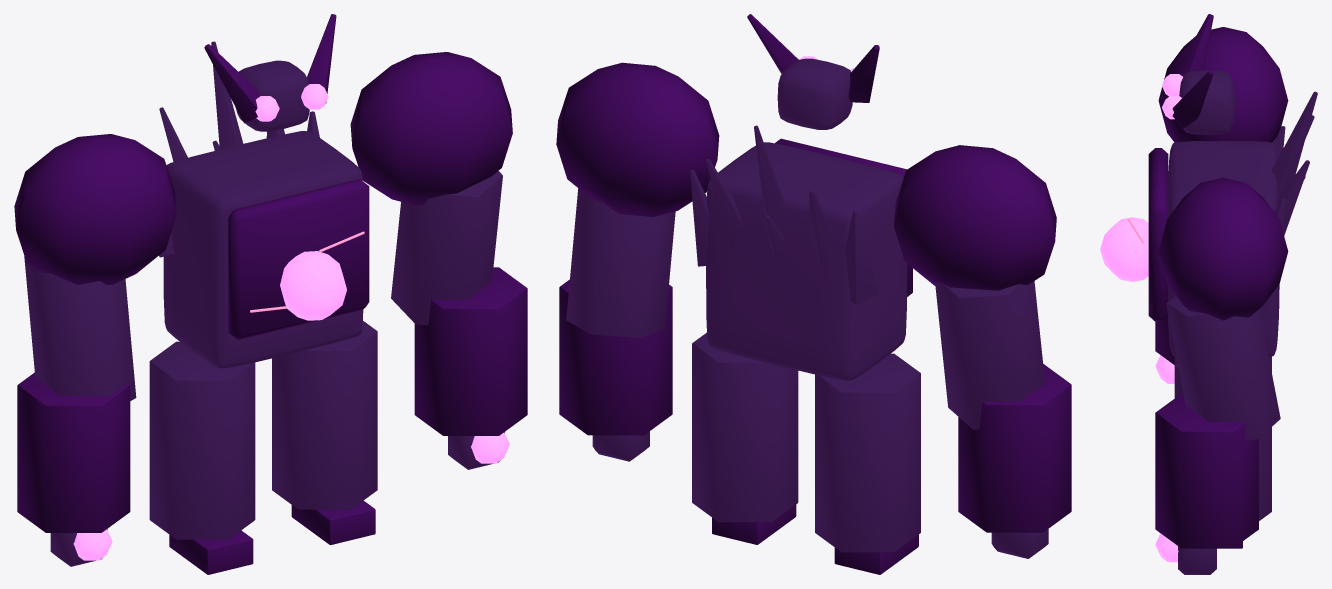
The model's file is SM_Berserker_LOD0.fbx.
The picture shows the model from 3 angles, left to right: view 1: azimuth 30°, elevation 25°; view 2: azimuth 150°, elevation 25°; view 3: azimuth 270°, elevation 25°; orthographic projection. The views are drawn at different scales.
Parts seen in each view (by area): view 1: SM_Berserker_Torso, SM_Berserker_Shoulder_L, SM_Berserker_Shoulder_R, SM_Berserker_Leg_L, SM_Berserker_Leg_R, SM_Berserker_Forearm_L, SM_Berserker_Forearm_R, SM_Berserker_ChestPlate, SM_Berserker_UpperArm_L, SM_Berserker_UpperArm_R, SM_Berserker_ChargeCore, SM_Berserker_Head (+9 smaller); view 2: SM_Berserker_Torso, SM_Berserker_Shoulder_R, SM_Berserker_Shoulder_L, SM_Berserker_Leg_L, SM_Berserker_Leg_R, SM_Berserker_Forearm_L, SM_Berserker_UpperArm_R, SM_Berserker_UpperArm_L, SM_Berserker_Forearm_R, SM_Berserker_Head, SM_Berserker_BackSpike_4, SM_Berserker_BackSpike_0 (+10 smaller); view 3: SM_Berserker_Shoulder_R, SM_Berserker_Forearm_R, SM_Berserker_UpperArm_R, SM_Berserker_Shoulder_L, SM_Berserker_Torso, SM_Berserker_ChestPlate, SM_Berserker_ChargeCore, SM_Berserker_Head, SM_Berserker_BackSpike_0, SM_Berserker_Leg_R, SM_Berserker_Horn_R, SM_Berserker_Fist_R (+6 smaller).
Boxes of the visible parts, x1,y1,x2,y2 form: SM_Berserker_Torso: [163, 131, 363, 368]; SM_Berserker_Shoulder_L: [14, 134, 176, 285]; SM_Berserker_Shoulder_R: [350, 52, 512, 205]; SM_Berserker_Leg_L: [149, 341, 255, 539]; SM_Berserker_Leg_R: [272, 321, 377, 509]; SM_Berserker_Forearm_L: [17, 372, 130, 532]; SM_Berserker_Forearm_R: [414, 267, 527, 435]; SM_Berserker_ChestPlate: [228, 179, 369, 339]; SM_Berserker_UpperArm_L: [24, 256, 136, 400]; SM_Berserker_UpperArm_R: [391, 171, 502, 324]; SM_Berserker_ChargeCore: [280, 251, 346, 320]; SM_Berserker_Head: [235, 60, 309, 131]; SM_Berserker_Torso: [706, 142, 907, 380]; SM_Berserker_Shoulder_R: [556, 62, 719, 217]; SM_Berserker_Shoulder_L: [894, 145, 1056, 290]; SM_Berserker_Leg_L: [815, 353, 920, 552]; SM_Berserker_Leg_R: [692, 332, 798, 522]; SM_Berserker_Forearm_L: [958, 364, 1071, 532]; SM_Berserker_UpperArm_R: [566, 188, 675, 338]; SM_Berserker_UpperArm_L: [935, 281, 1044, 429]; SM_Berserker_Forearm_R: [559, 279, 672, 435]; SM_Berserker_Head: [777, 58, 852, 129]; SM_Berserker_BackSpike_4: [845, 209, 878, 304]; SM_Berserker_BackSpike_0: [754, 125, 789, 264]; SM_Berserker_Shoulder_R: [1158, 177, 1288, 320]; SM_Berserker_Forearm_R: [1155, 393, 1258, 548]; SM_Berserker_UpperArm_R: [1166, 295, 1280, 440]; SM_Berserker_Shoulder_L: [1158, 27, 1288, 142]; SM_Berserker_Torso: [1168, 140, 1279, 357]; SM_Berserker_ChestPlate: [1148, 148, 1168, 321]; SM_Berserker_ChargeCore: [1100, 217, 1148, 281]; SM_Berserker_Head: [1179, 70, 1235, 134]; SM_Berserker_BackSpike_0: [1271, 91, 1317, 197]; SM_Berserker_Leg_R: [1174, 364, 1271, 520]; SM_Berserker_Horn_R: [1172, 70, 1213, 127]; SM_Berserker_Fist_R: [1178, 546, 1216, 574].
Bounding box in the file's own units: 1.62 × 1.6 × 0.6711.
